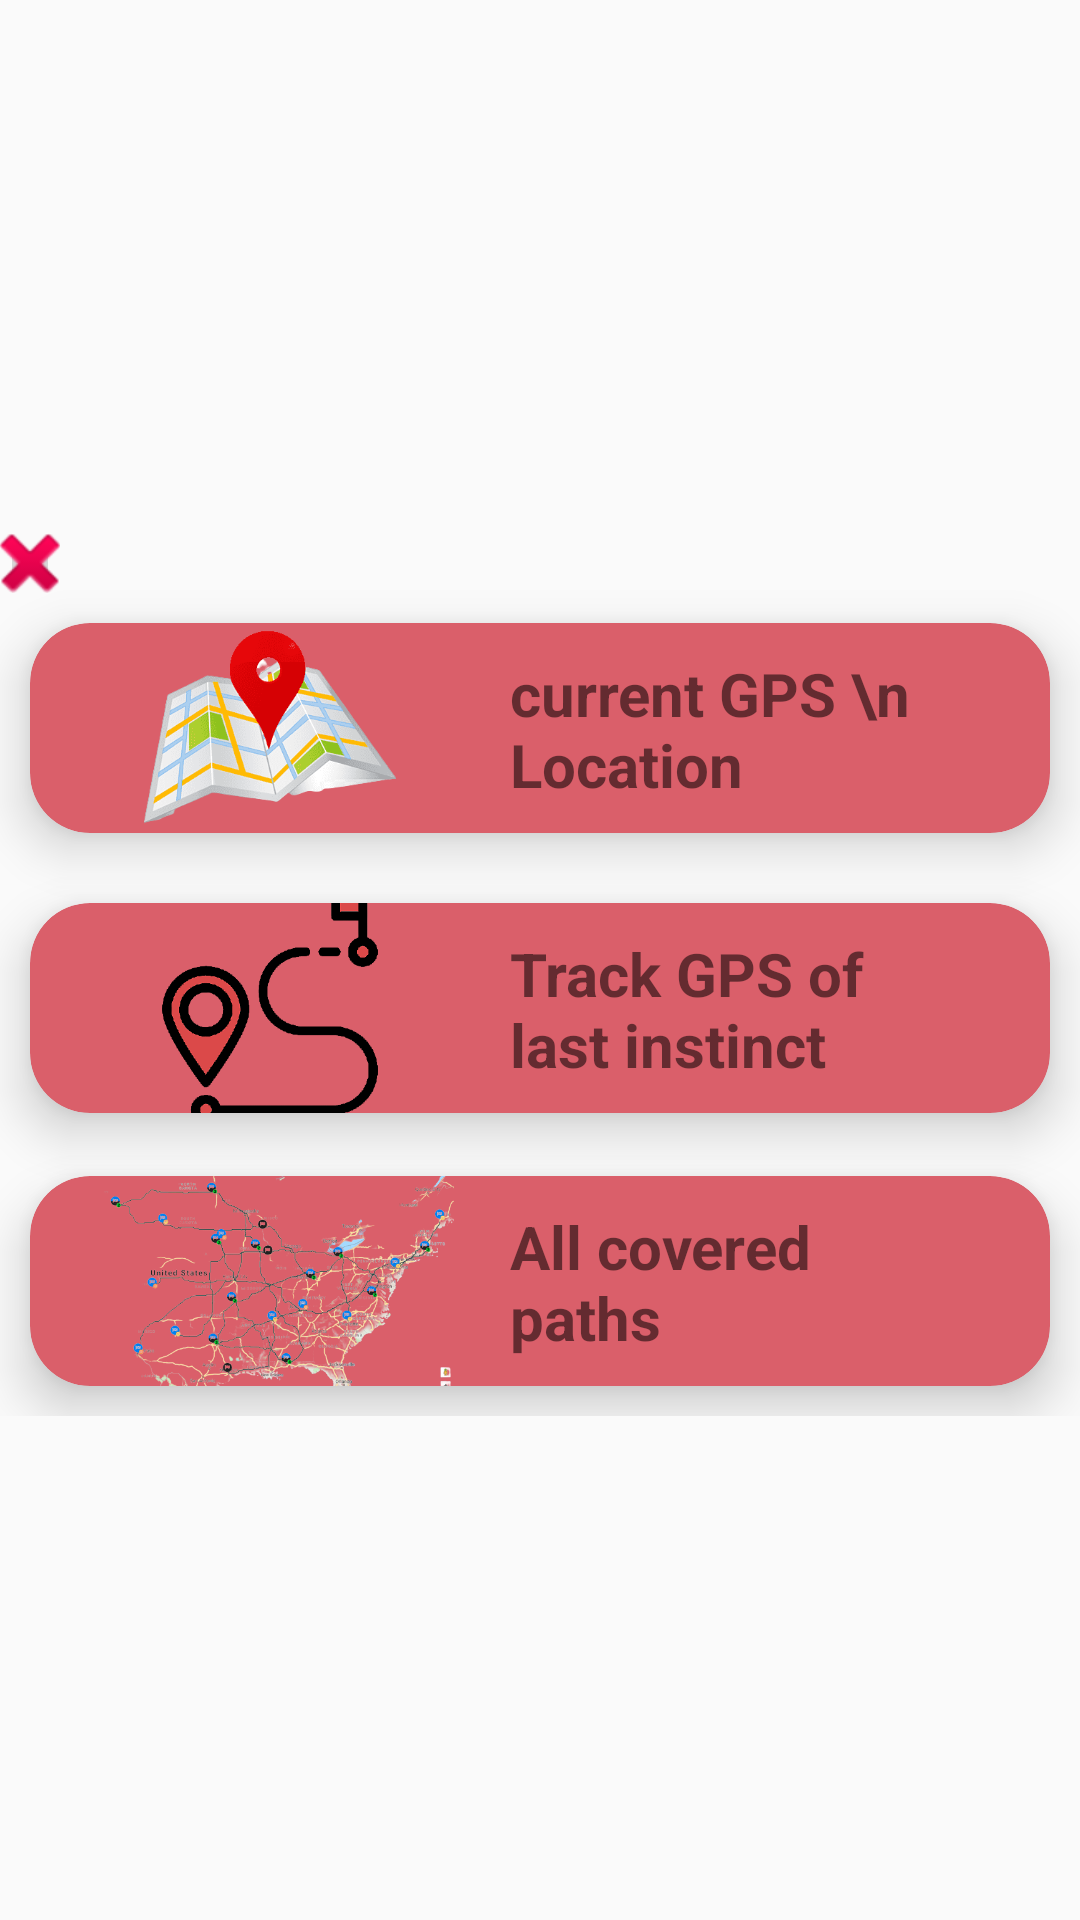

Point at icon controls on the screen. Image size 1080×1920, points as point (x, y).
delete: point (30, 563)
